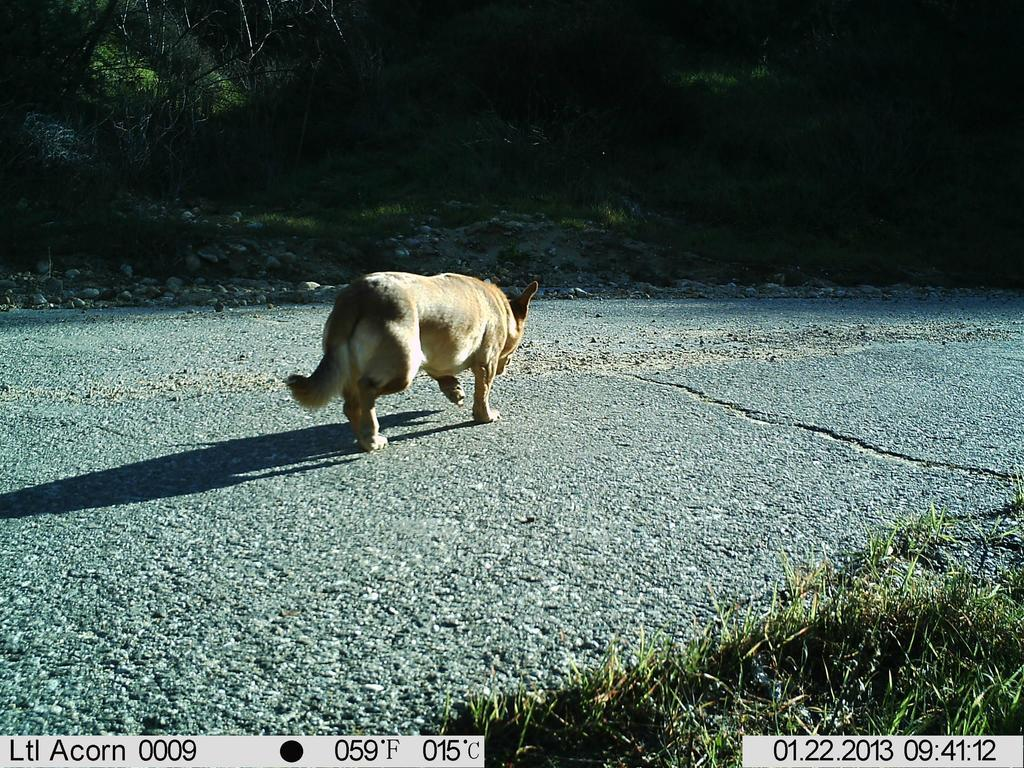dog: (282, 263, 549, 456)
